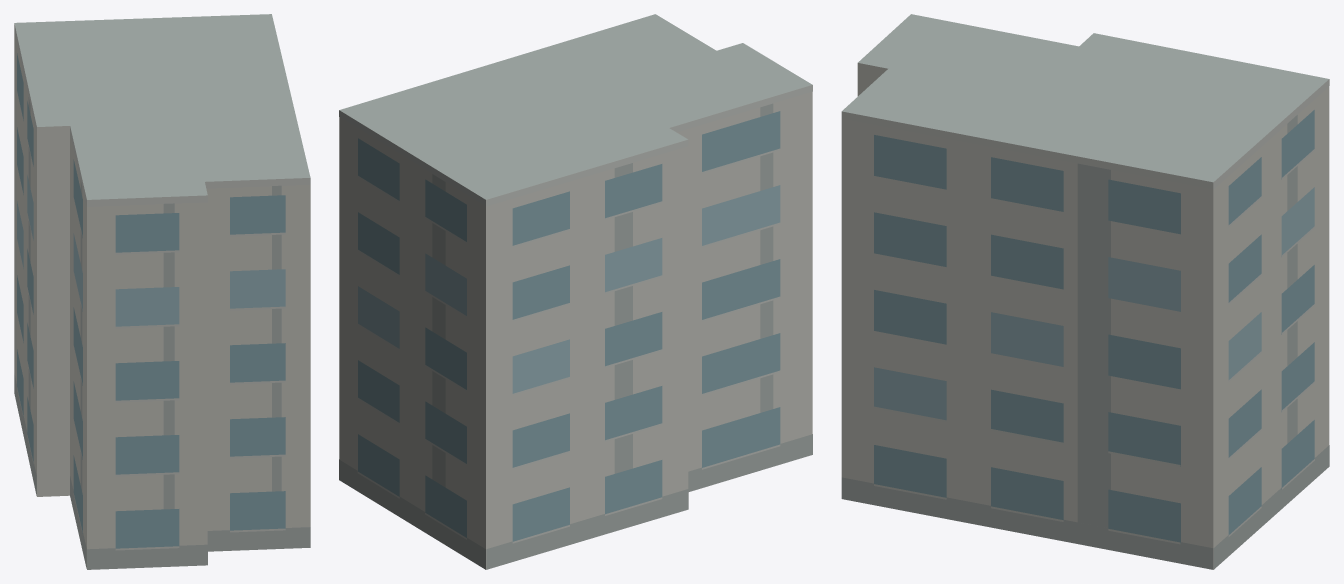
The model's file is survey-upis-32542918.glb.
3 renders of one model, left to right at view 1: azimuth 30°, elevation 25°; view 2: azimuth 150°, elevation 25°; view 3: azimuth 270°, elevation 25°, orthographic. The views are drawn at different scales.
Visible parts, largest first — view 1: survey-upis-32542918.tmp; view 2: survey-upis-32542918.tmp; view 3: survey-upis-32542918.tmp.
Part boxes in pixels (x1=…): survey-upis-32542918.tmp: x1=14, y1=14, x2=310, y2=569; survey-upis-32542918.tmp: x1=339, y1=14, x2=812, y2=569; survey-upis-32542918.tmp: x1=841, y1=14, x2=1329, y2=569.
Bounding box in the file's own units: 12.4 × 13.3 × 15.18.
